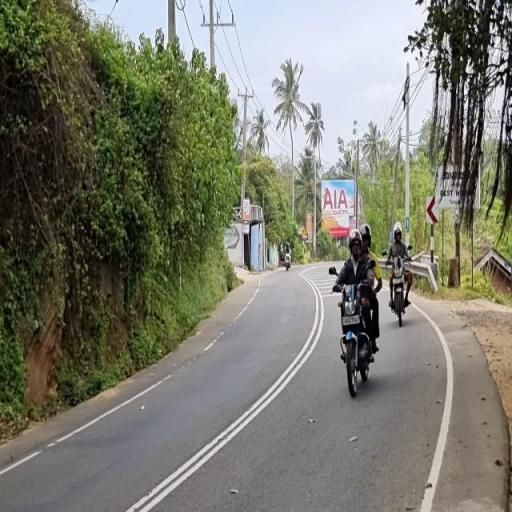double_white_line: (126, 278, 326, 510)
